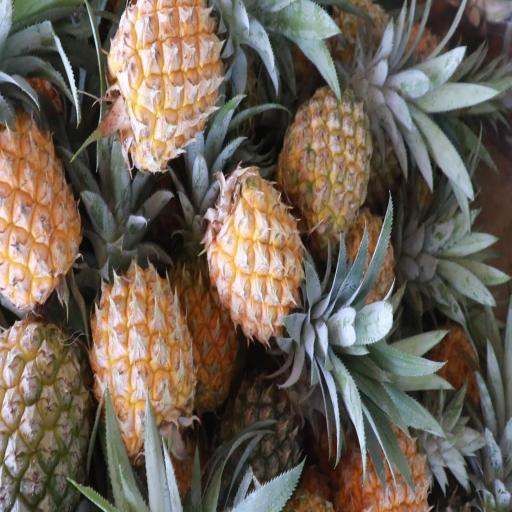------------------------------: (0, 322, 92, 510), (279, 92, 368, 236)
Pineapple - v8 v1: (107, 2, 224, 162), (94, 268, 194, 444), (206, 164, 304, 340), (0, 115, 83, 304), (340, 408, 440, 512), (173, 265, 238, 404)
